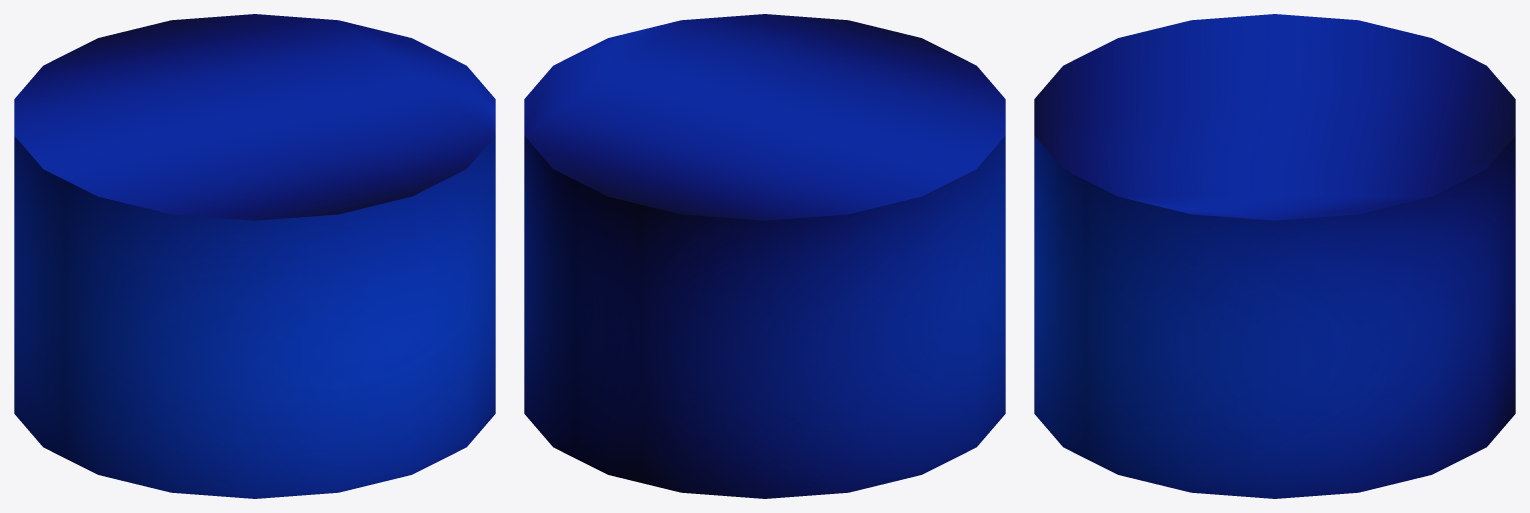
The model's file is Plataforma.obj.
3 renders of one model, left to right at view 1: azimuth 30°, elevation 25°; view 2: azimuth 150°, elevation 25°; view 3: azimuth 270°, elevation 25°, orthographic.
Parts seen in each view (by area): view 1: Plataforma; view 2: Plataforma; view 3: Plataforma.
Part boxes in pixels (x1=…): Plataforma: x1=14, y1=14, x2=495, y2=498; Plataforma: x1=524, y1=14, x2=1005, y2=498; Plataforma: x1=1034, y1=14, x2=1515, y2=498.
Bounding box in the file's own units: 7.13 × 4.48 × 7.02.
Materials: 1 (1 with a texture image).
